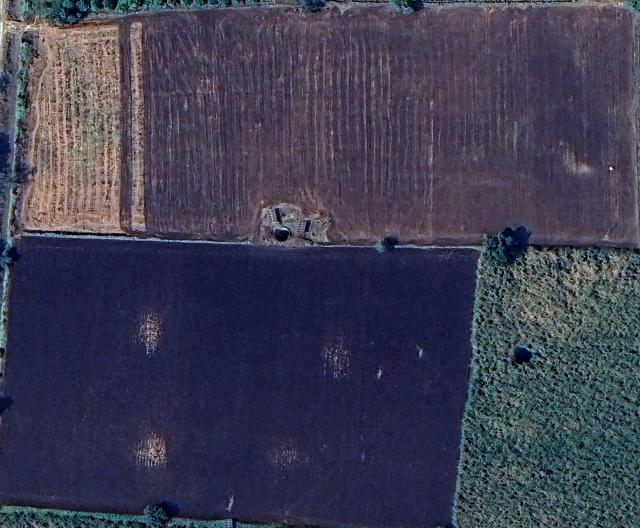Farms: (2, 238, 481, 527), (125, 4, 639, 248), (454, 247, 640, 527), (21, 23, 123, 233)
